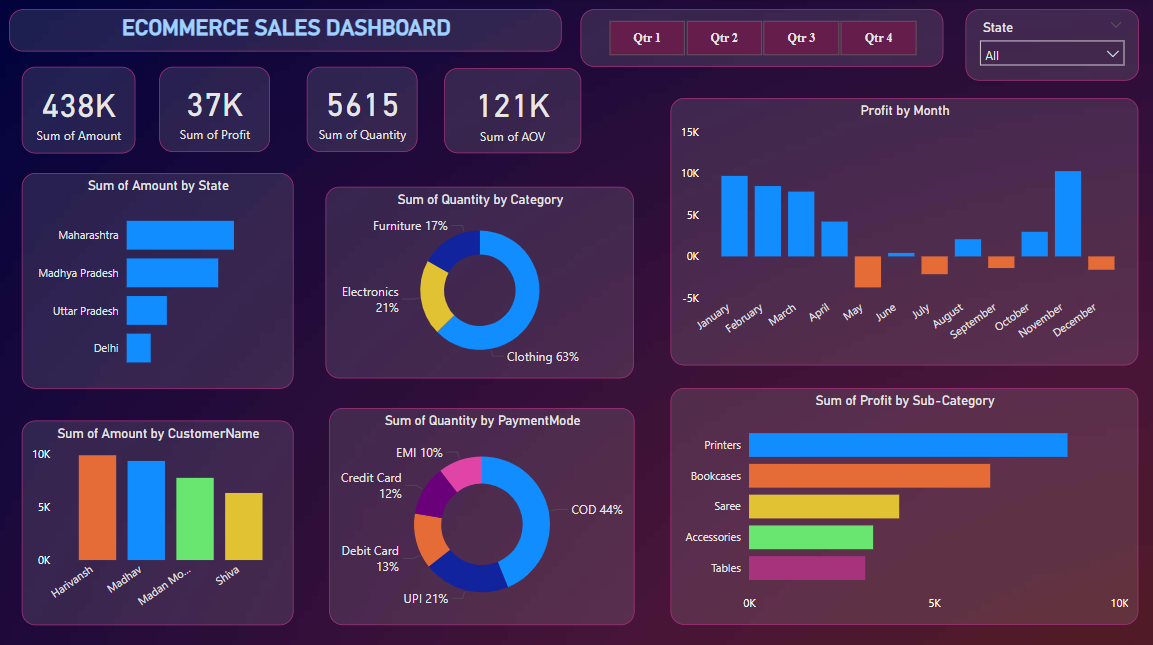

Layout of this report page (visuals, bound fields, positions):
{"tool":"powerbi","page":{"name":"Page 1","canvas":[1280,720],"ordinal":0},"visuals":[{"type":"columnChart","title":"Profit by Month","fields":{"Y":["Details.Profit"],"Category":["Orders.Order Date.Variation.Date Hierarchy.Month"]},"box":[738.3,110,513.3,293.3],"z":0},{"type":"barChart","fields":{"Category":["Details.Sub-Category"],"Y":["Details.Profit"]},"box":[738.3,428.3,513.3,260],"z":1000},{"type":"donutChart","fields":{"Category":["Details.Category"],"Y":["Details.Quantity"]},"box":[360,206.7,338.3,210],"z":2000},{"type":"donutChart","fields":{"Y":["Details.Quantity"],"Category":["Details.PaymentMode"]},"box":[363.3,450,335,238.3],"z":3000},{"type":"card","fields":{"Values":["Details.Amount"]},"box":[26.7,75,125,95],"z":4000},{"type":"card","fields":{"Values":["Details.Quantity"]},"box":[338.3,75,121.7,93.3],"z":5000},{"type":"card","fields":{"Values":["Details.Profit"]},"box":[176.7,75,121.7,93.3],"z":6000},{"type":"card","fields":{"Values":["Details.ADV"]},"box":[490,76.7,150,93.3],"z":7000},{"type":"barChart","fields":{"Category":["Orders.State"],"Y":["Details.Amount"]},"box":[26.7,191.7,298.3,236.7],"z":8000},{"type":"columnChart","fields":{"Category":["Orders.CustomerName"],"Y":["Details.Amount"]},"box":[26.7,463.3,298.3,225],"z":9000},{"type":"textbox","title":"ECOMMERCE SALES DASHBOARD","box":[11.7,11.7,606.7,46.7],"z":10000},{"type":"slicer","fields":{"Values":["Orders.Order Date.Variation.Date Hierarchy.Quarter"]},"box":[640,11.7,398.3,63.3],"z":11000},{"type":"slicer","fields":{"Values":["Orders.State"]},"box":[1061.7,11.7,190,78.3],"z":12000}]}

Visuals, with their boxes in screenshot pixels (x1, y1, x2, y2), scaled from the page's 1280x720 canvas onto the 1153x645 screenshot:
"Profit by Month" columnChart: detection(665, 99, 1127, 361)
barChart - Details.Sub-Category x Details.Profit: detection(665, 384, 1127, 617)
donutChart - Details.Category x Details.Quantity: detection(324, 185, 629, 373)
donutChart - Details.Quantity x Details.PaymentMode: detection(327, 403, 629, 617)
card - Details.Amount: detection(24, 67, 137, 152)
card - Details.Quantity: detection(305, 67, 414, 151)
card - Details.Profit: detection(159, 67, 269, 151)
card - Details.ADV: detection(441, 69, 576, 152)
barChart - Orders.State x Details.Amount: detection(24, 172, 293, 384)
columnChart - Orders.CustomerName x Details.Amount: detection(24, 415, 293, 617)
"ECOMMERCE SALES DASHBOARD" textbox: detection(11, 10, 557, 52)
slicer - Orders.Order Date.Variation.Date Hierarchy.Quarter: detection(576, 10, 935, 67)
slicer - Orders.State: detection(956, 10, 1128, 81)
